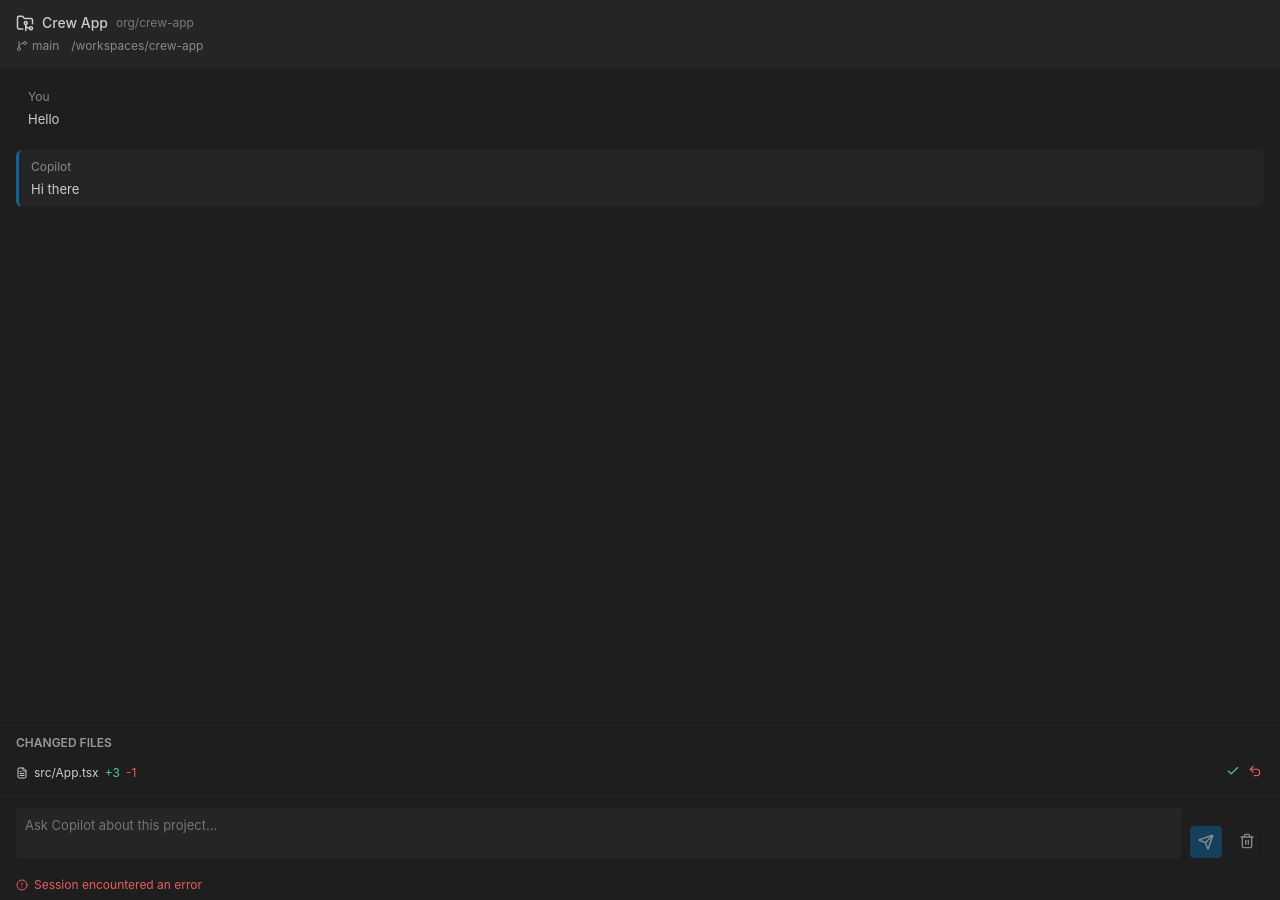
Test case: CrewProjectView › renders session details and clears the session
Expected: the text "org/crew-app" is shown, [116,14,194,32]
Expected: the text "/workspaces/crew-app" is shown, [71,37,204,55]
Click the button titled "Clear session": (1247,841) [1230,824,1264,858]
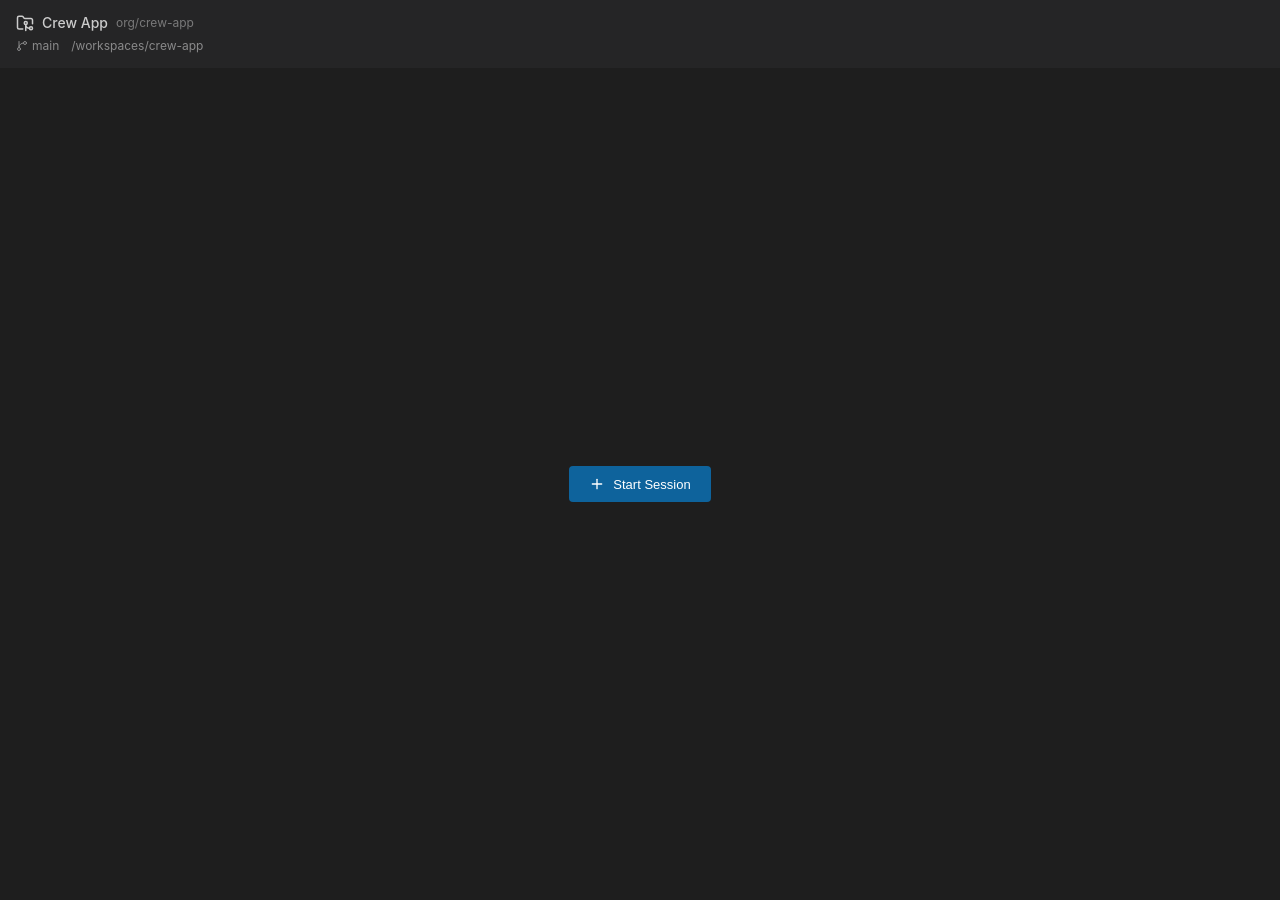
Result: the button "Start Session" is shown at [569,466,711,502]
